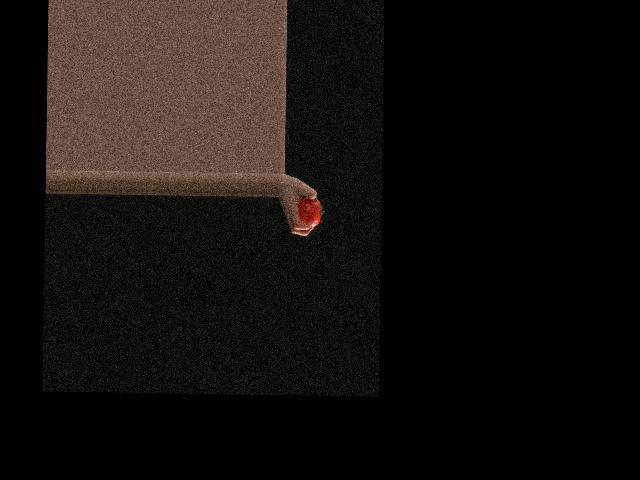tomato: (298, 197, 324, 226)
